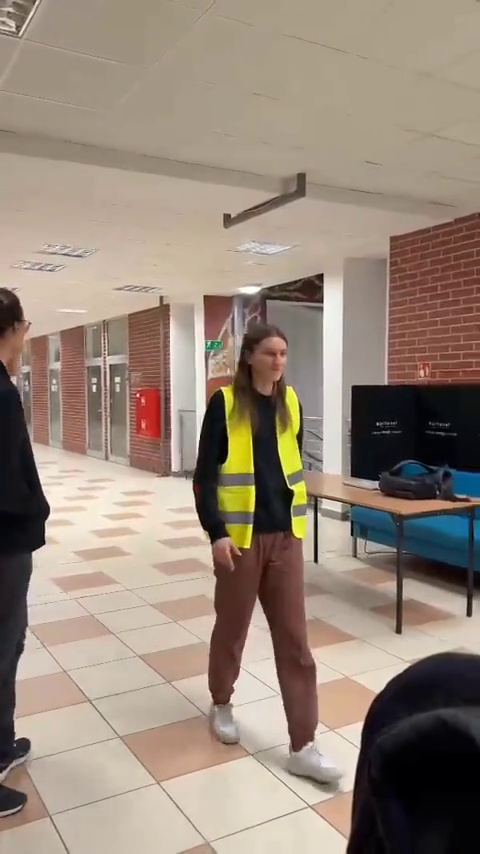no vest: (0, 283, 36, 818)
vest: (193, 328, 354, 780)
